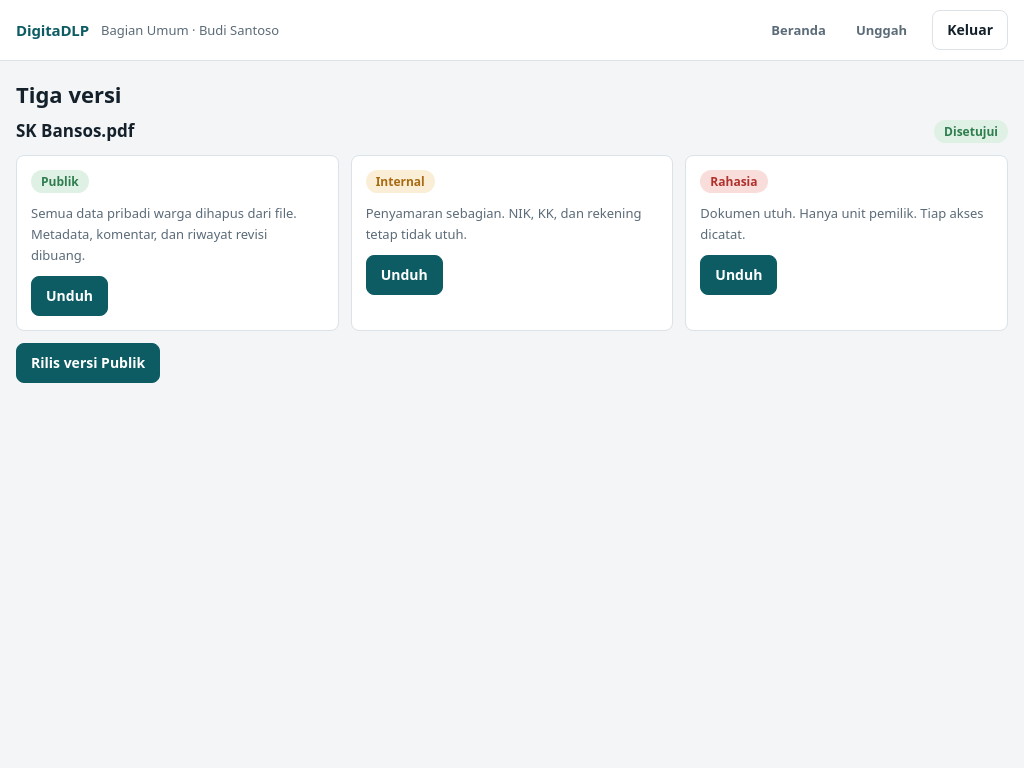
Test: release needs confirm step
Check: the heading "SK Bansos.pdf" is shown, box [16,121,134,142]
Click the button "Rilis versi Publik".
click(88, 363)  # box [16,343,160,383]
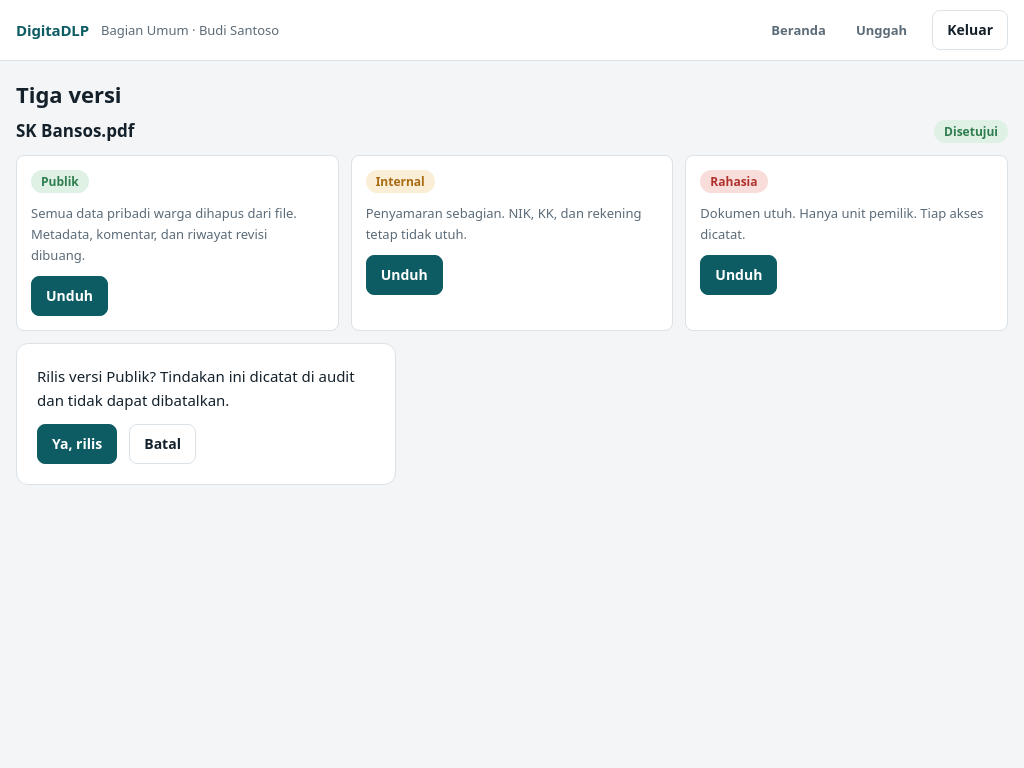
Click the button "Batal".
click(163, 444)  # box [129,424,196,464]
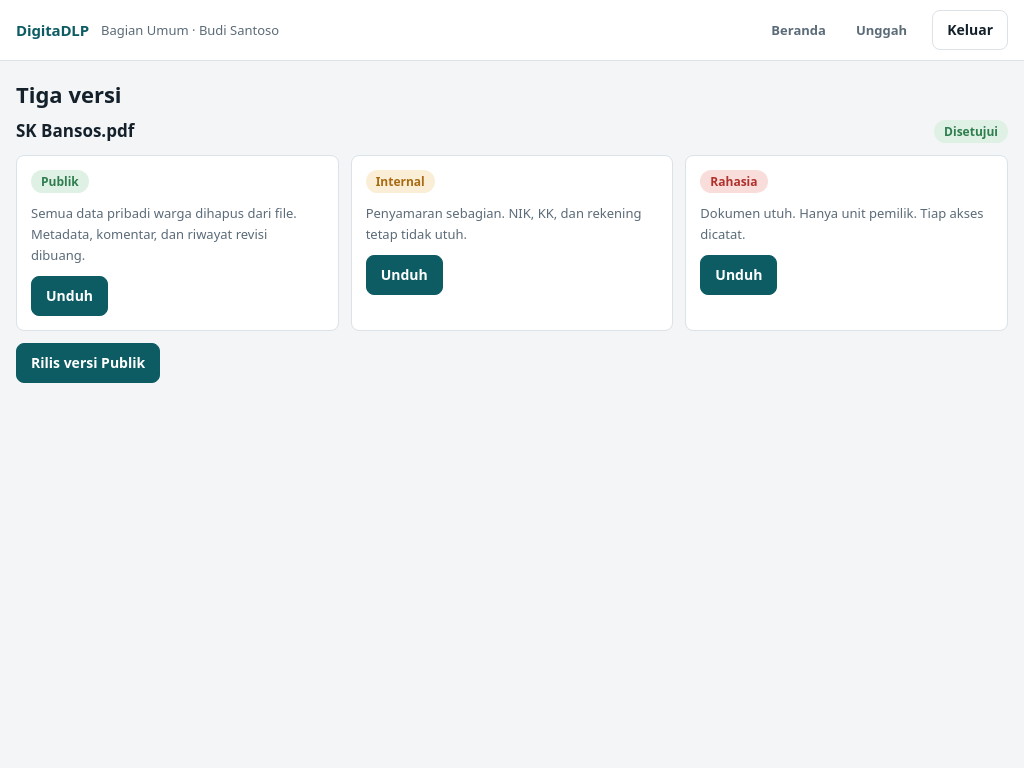
Check: the dialog is gone
Click the button "Rilis versi Publik".
click(88, 363)  # box [16,343,160,383]
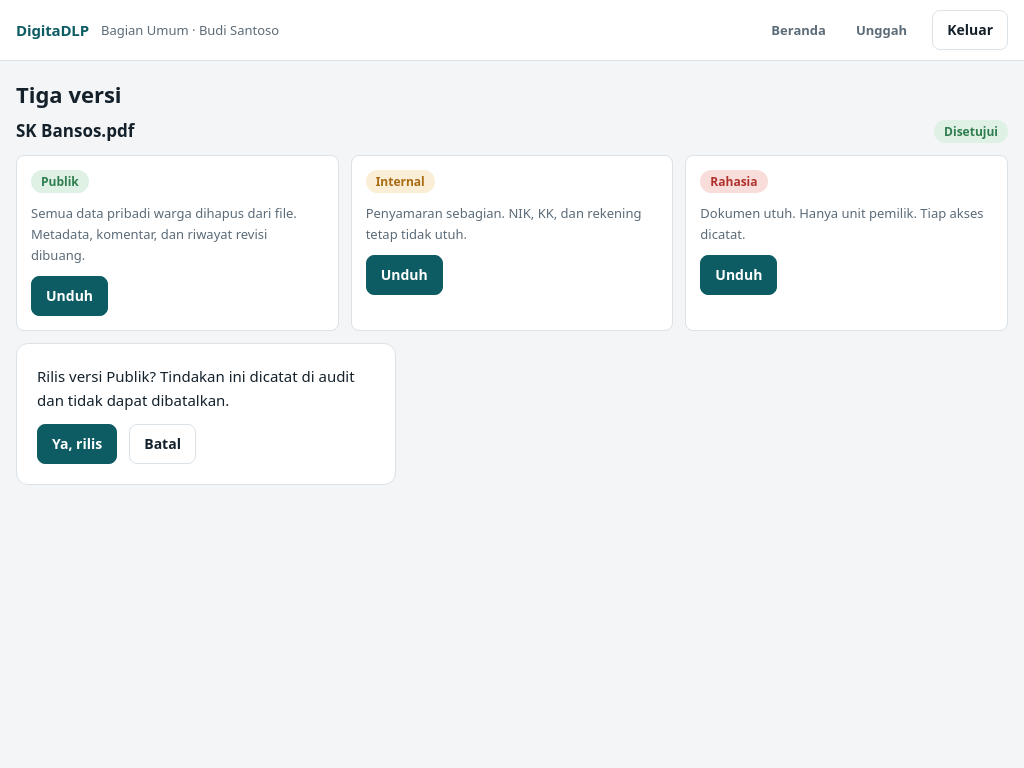
Click the button "Ya, rilis".
click(77, 444)  # box [37,424,117,464]
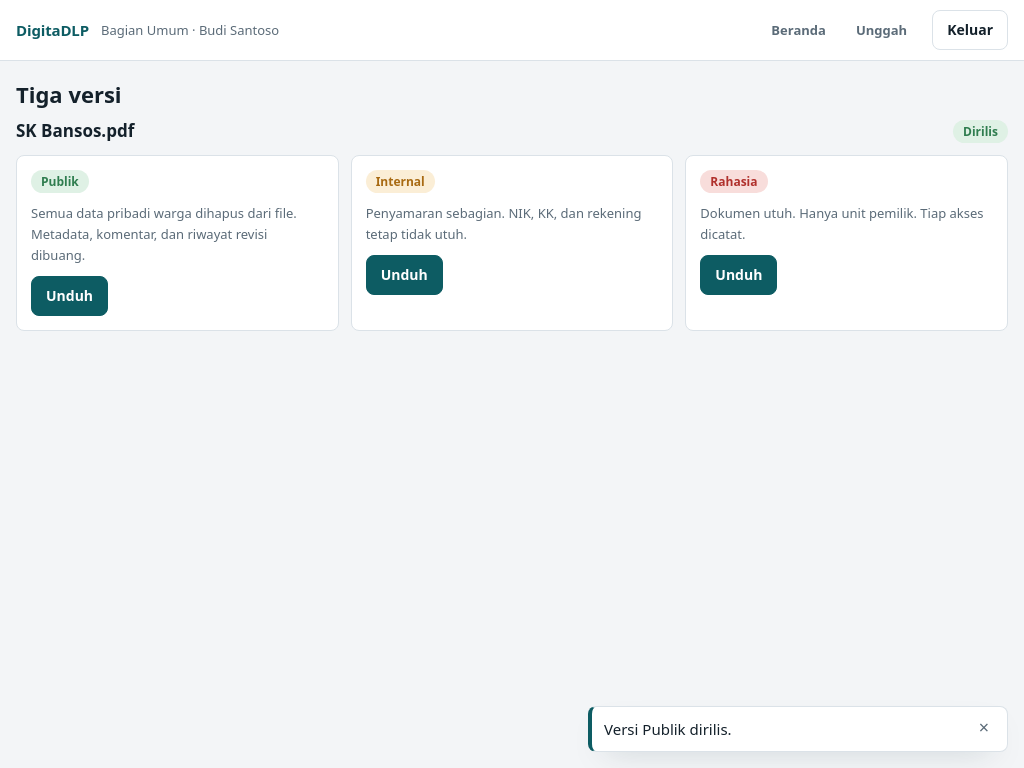
Check: the text "Versi Publik dirilis." is shown, box [604,719,732,739]
Check: the text "Rilis versi Publik" is gone
